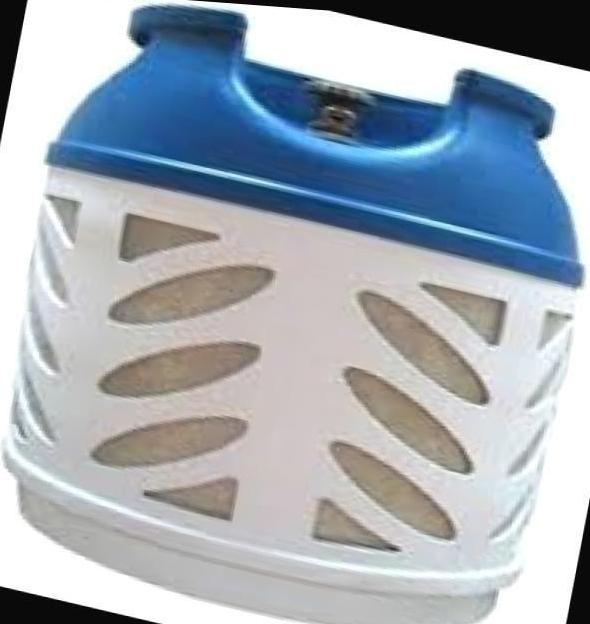cylinder: (1, 0, 590, 624)
